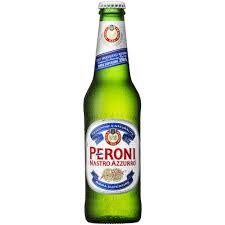Glass bottle: (72, 0, 158, 225)
